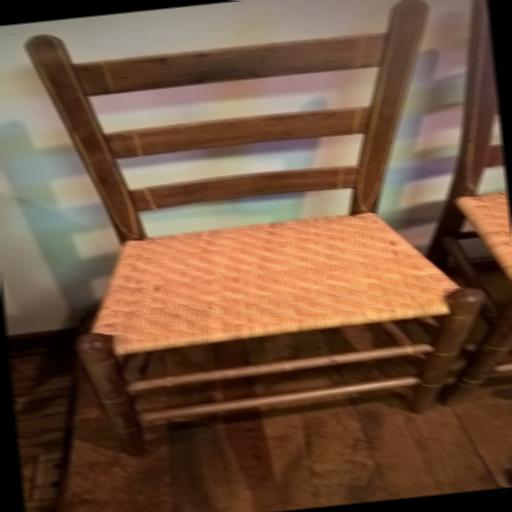chair: (22, 0, 498, 462), (396, 0, 512, 407)
wall: (0, 0, 512, 334)
